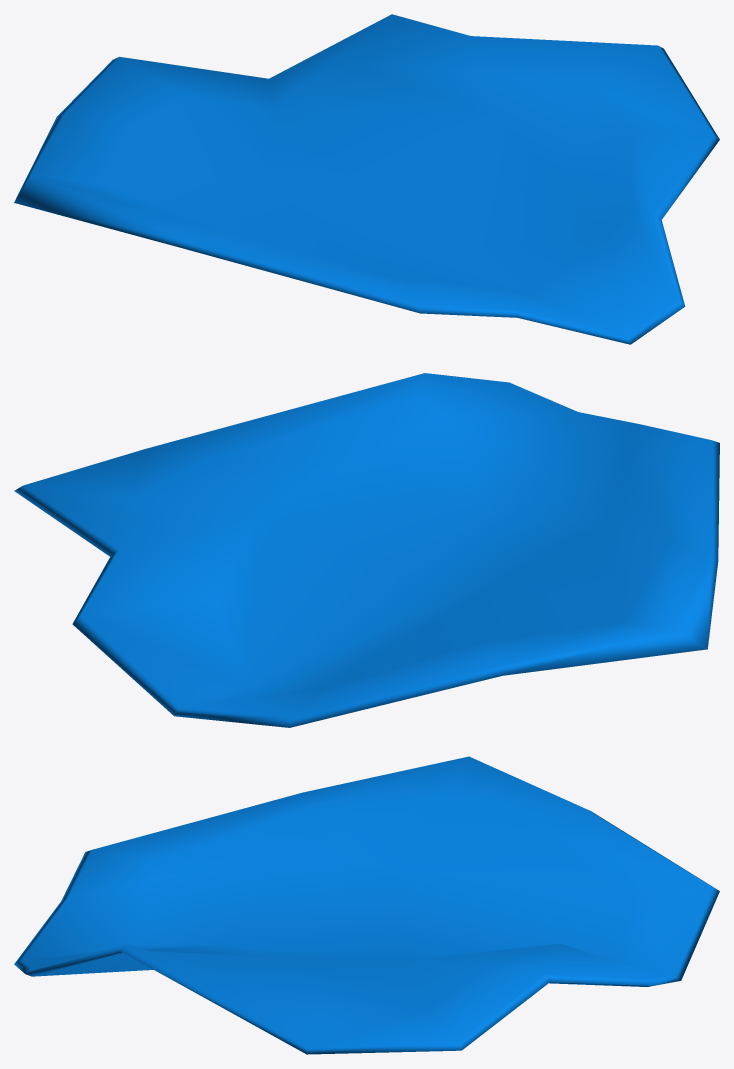
The model's file is Mesh_cabbage_Leaf.fbx.
The picture shows the model from 3 angles, top to bottom: view 1: azimuth 30°, elevation 25°; view 2: azimuth 150°, elevation 25°; view 3: azimuth 270°, elevation 25°; orthographic projection. The views are drawn at different scales.
Parts seen in each view (by area): view 1: leaf; view 2: leaf; view 3: leaf.
Boxes of the visible parts, x1=… form: leaf: x1=14, y1=14, x2=719, y2=344; leaf: x1=14, y1=373, x2=719, y2=727; leaf: x1=14, y1=756, x2=719, y2=1054.
Size of the model in its own units: 26.42 by 3.13 by 27.85.
